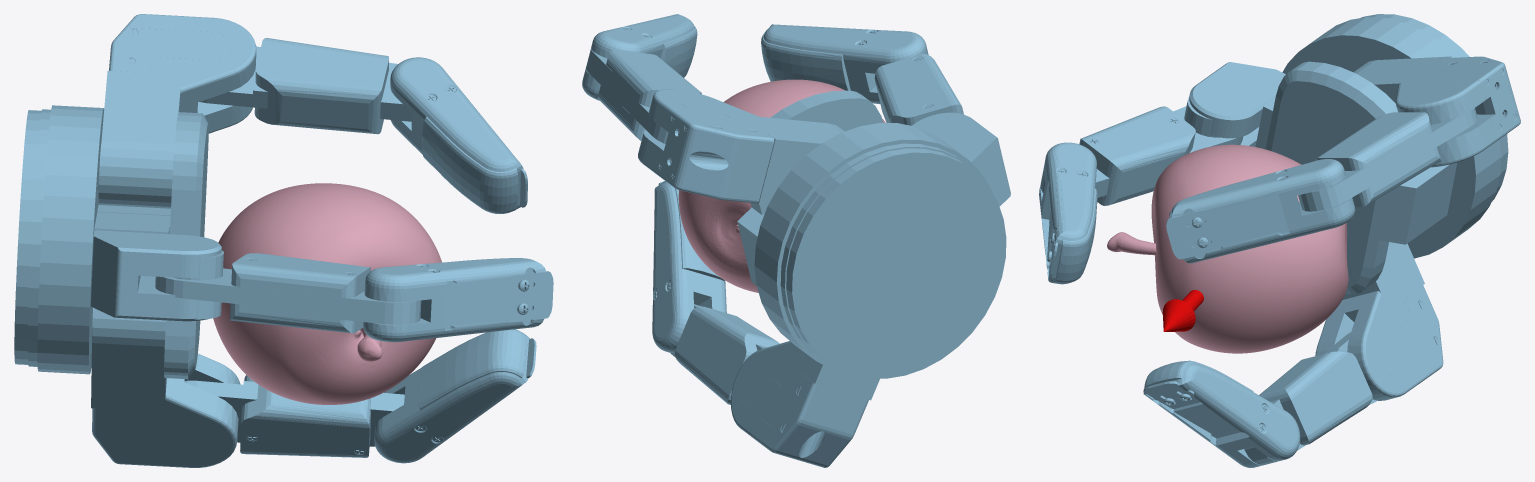
3 views of the same model, side by side, from view 1: azimuth 30°, elevation 25°; view 2: azimuth 150°, elevation 25°; view 3: azimuth 270°, elevation 25° (orthographic). The views are drawn at different scales.
Visible parts, largest first — view 1: world, apple.stl; view 2: world, apple.stl; view 3: world, apple.stl.
Boxes of the visible parts, left/top/right/bottom form: world: left=14, top=14, right=553, bottom=467; apple.stl: left=213, top=183, right=441, bottom=404; world: left=582, top=14, right=1010, bottom=467; apple.stl: left=678, top=79, right=885, bottom=292; world: left=1039, top=14, right=1520, bottom=467; apple.stl: left=1107, top=144, right=1348, bottom=353.
Bounding box in the file's own units: 0.1704 × 0.1431 × 0.1762.
